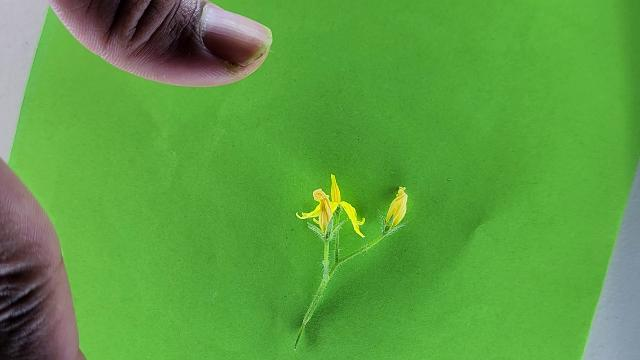Anthesis: (296, 174, 366, 238), (383, 185, 409, 233)
